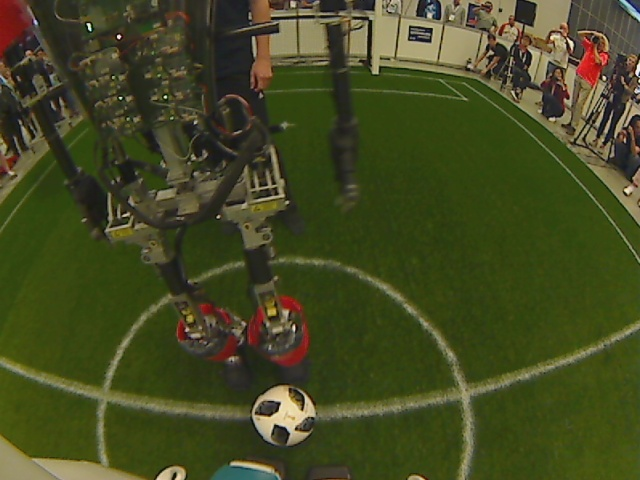ball: (248, 381, 320, 450)
